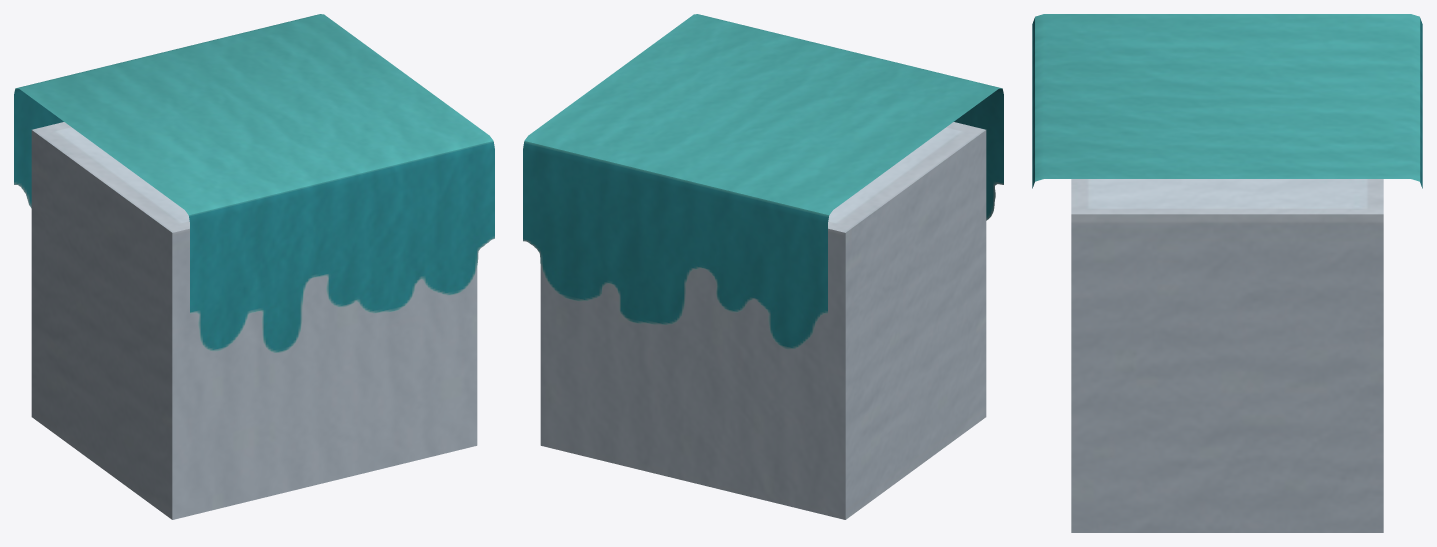
The model's file is Tile1_11.fbx.
The picture shows the model from 3 angles, left to right: view 1: azimuth 30°, elevation 25°; view 2: azimuth 150°, elevation 25°; view 3: azimuth 270°, elevation 25°; orthographic projection. The views are drawn at different scales.
Visible parts, largest first — view 1: Tile1_11; view 2: Tile1_11; view 3: Tile1_11.
Part boxes in pixels (box(x1,y1,x2,y2)): Tile1_11: box(14, 14, 494, 519); Tile1_11: box(523, 14, 1003, 519); Tile1_11: box(1032, 14, 1422, 532).
Size of the model in its own units: 1 by 1 by 1.
Materials: 1 (1 with a texture image).
